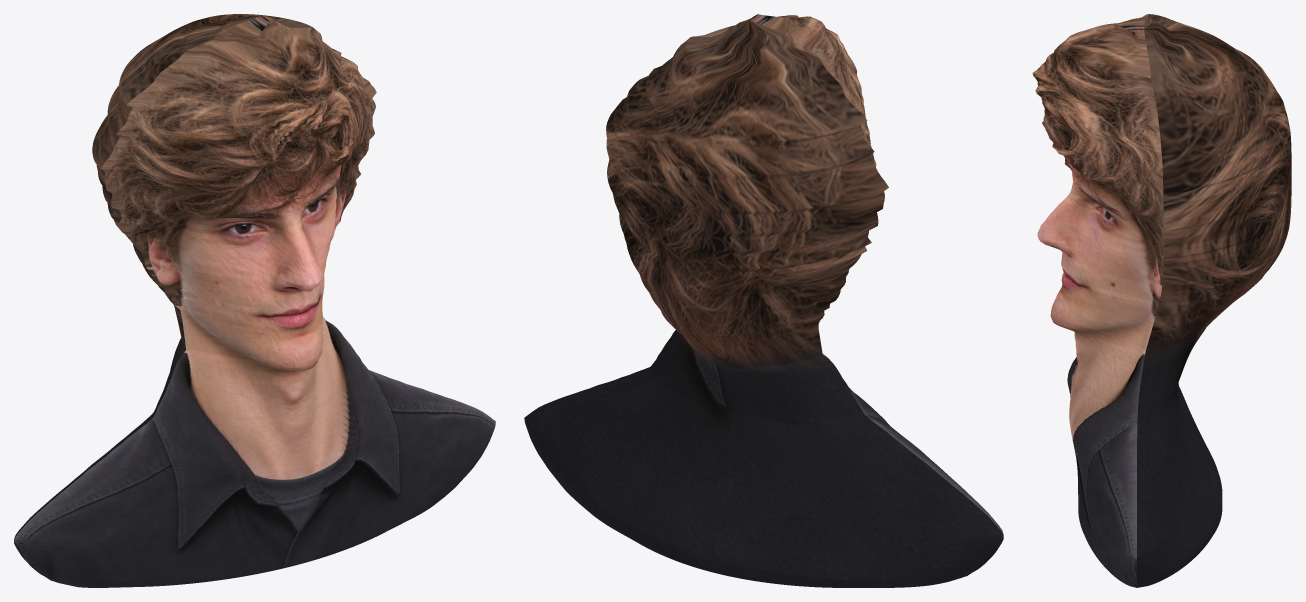
The model's file is aleksey-avatar.glb.
The picture shows the model from 3 angles, left to right: view 1: azimuth 30°, elevation 25°; view 2: azimuth 150°, elevation 25°; view 3: azimuth 270°, elevation 25°; orthographic projection. The views are drawn at different scales.
Visible parts, largest first — view 1: Aleksey; view 2: Aleksey; view 3: Aleksey.
Boxes of the visible parts, x1,y1,x2,y2 form: Aleksey: [14, 14, 495, 587]; Aleksey: [524, 14, 1003, 587]; Aleksey: [1032, 14, 1291, 587].
Bounding box in the file's own units: 1.93 × 2 × 0.9718.
1 material, 1 textured.
